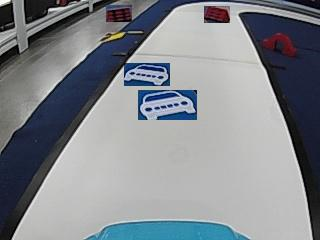bridge: (264, 32, 294, 55)
